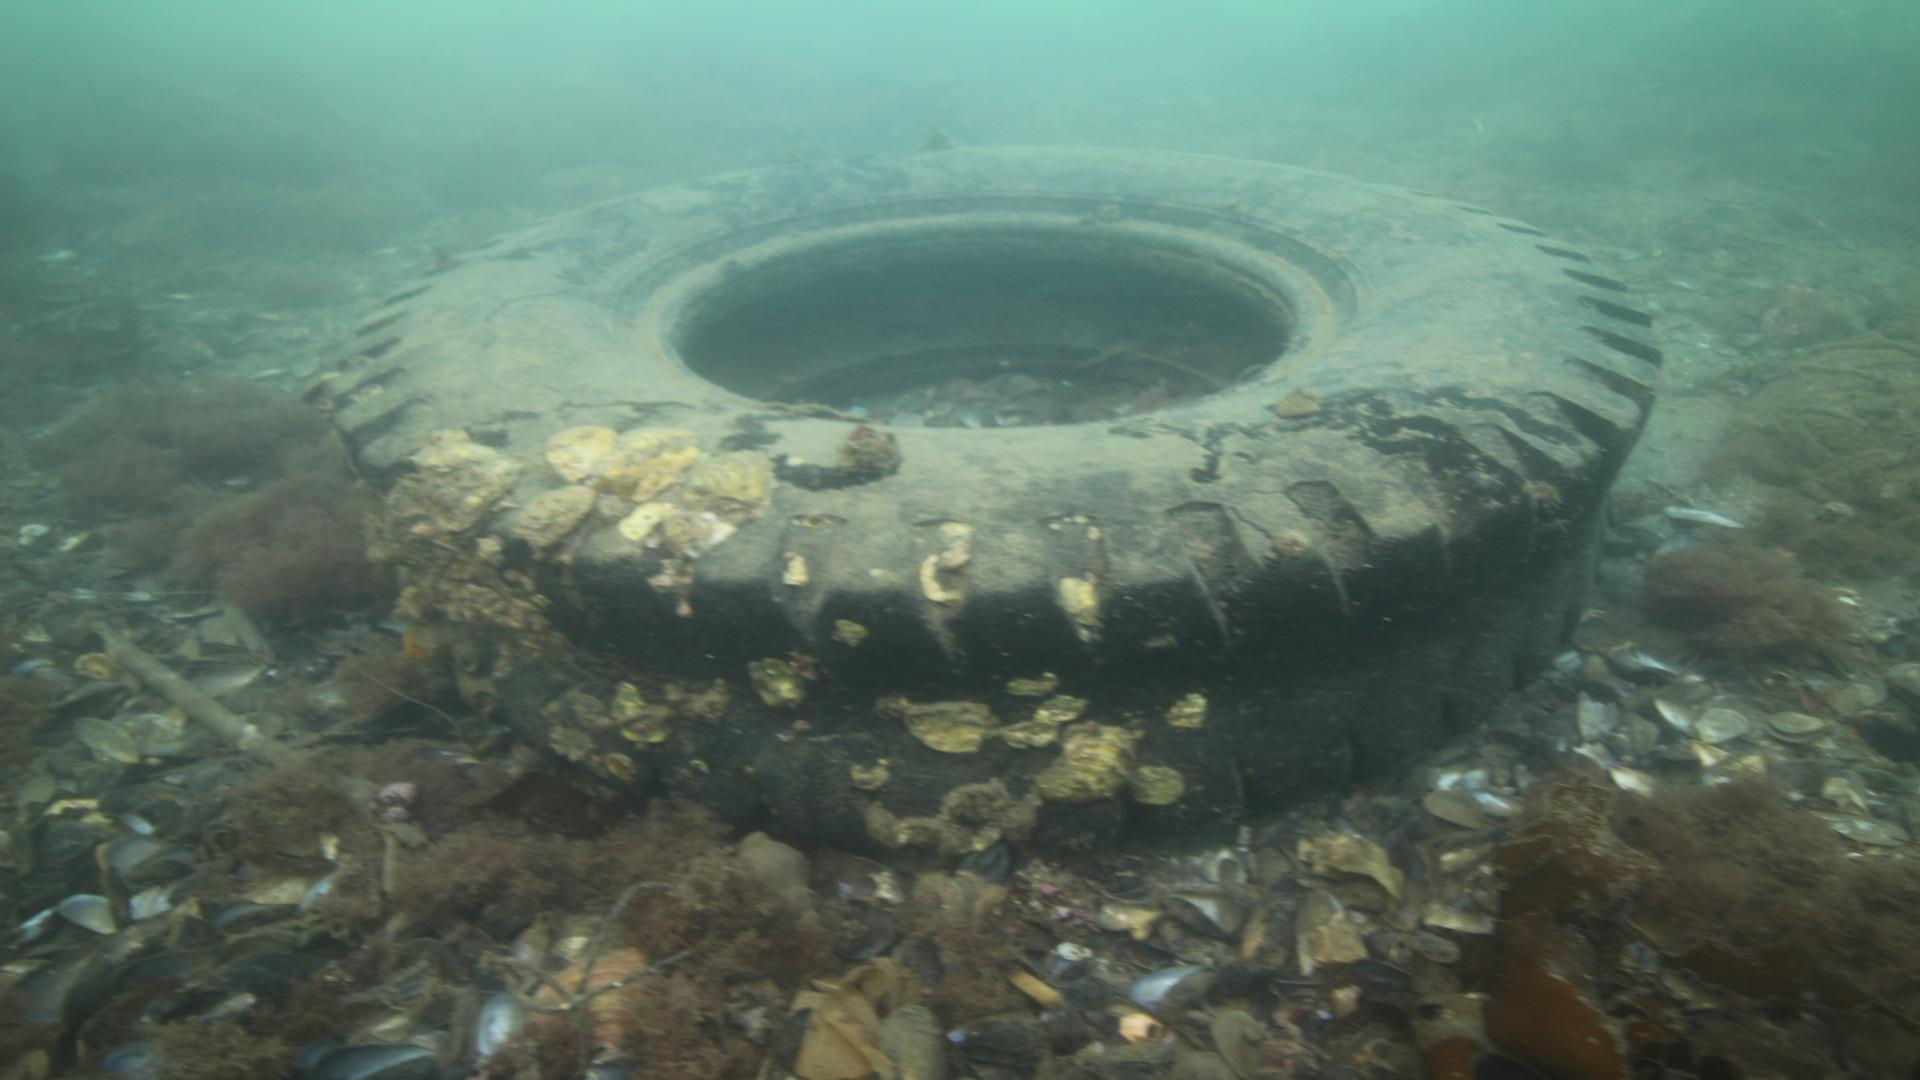tire: (328, 140, 1662, 852)
